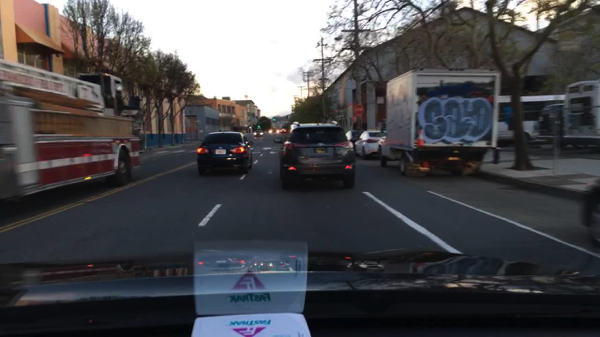bus: (499, 94, 565, 144), (563, 80, 599, 144), (536, 104, 567, 147)
car: (275, 121, 355, 188), (197, 132, 254, 173), (581, 180, 599, 246), (354, 131, 389, 158), (345, 131, 362, 144), (255, 131, 263, 136), (268, 129, 275, 133), (280, 129, 286, 133), (277, 128, 279, 134)
traffic light: (273, 118, 276, 123), (258, 125, 261, 130)
traffic sign: (353, 105, 364, 116)
truck: (0, 58, 141, 203), (378, 67, 497, 179)
